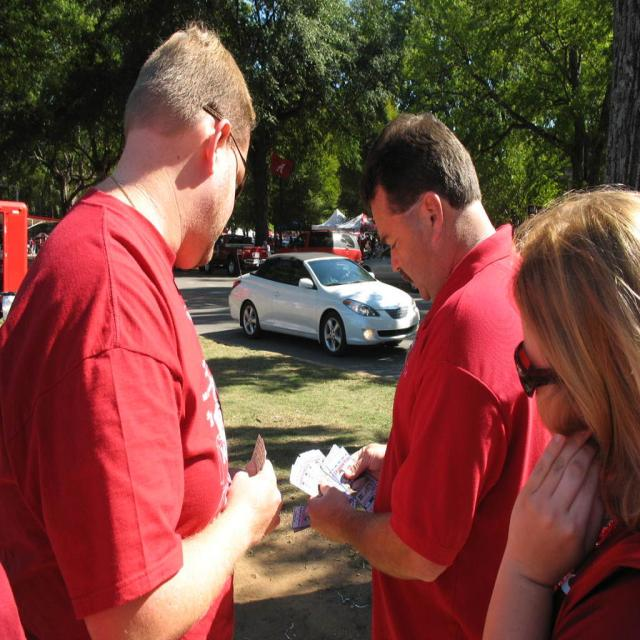car: (220, 246, 416, 357)
